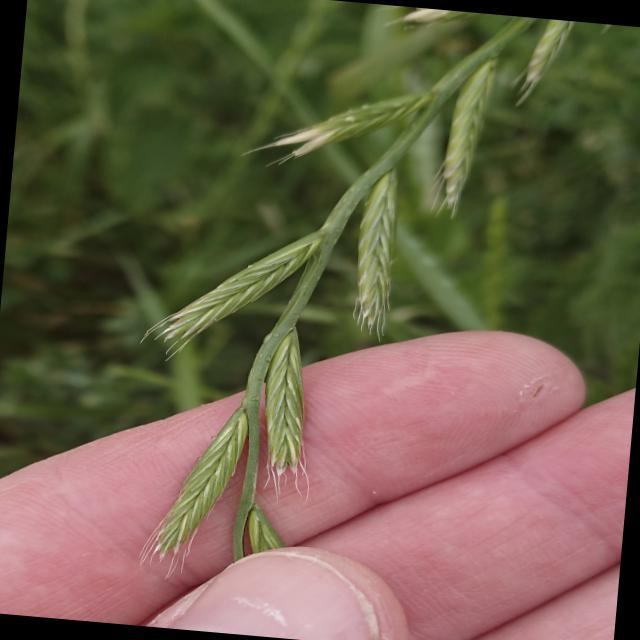Lolium: (117, 0, 584, 609)
